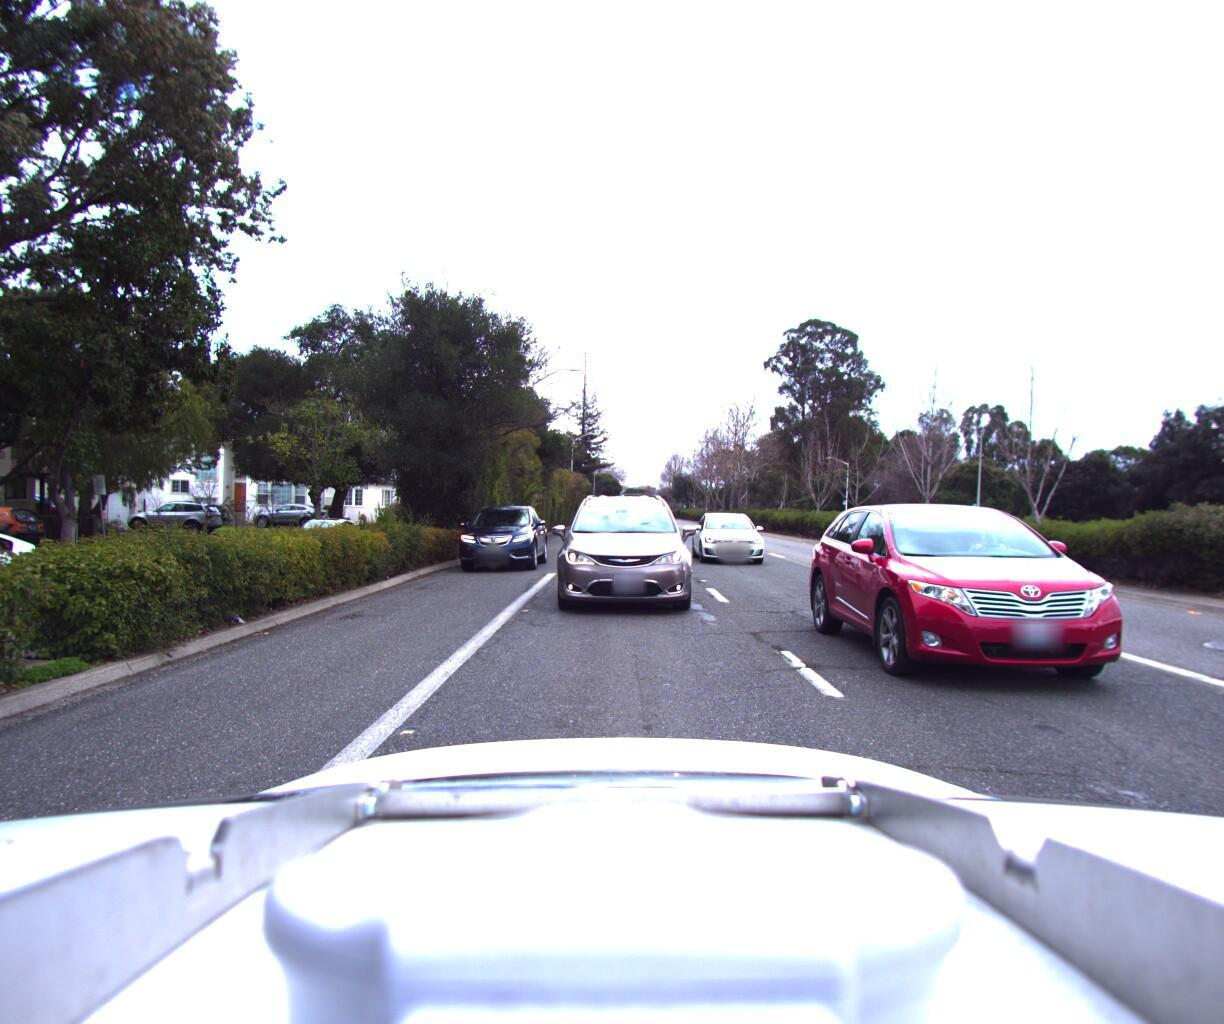car: (815, 497, 1224, 748), (548, 484, 688, 620), (453, 502, 545, 574), (690, 502, 779, 568), (277, 513, 366, 563), (120, 494, 229, 535), (250, 500, 330, 528)
